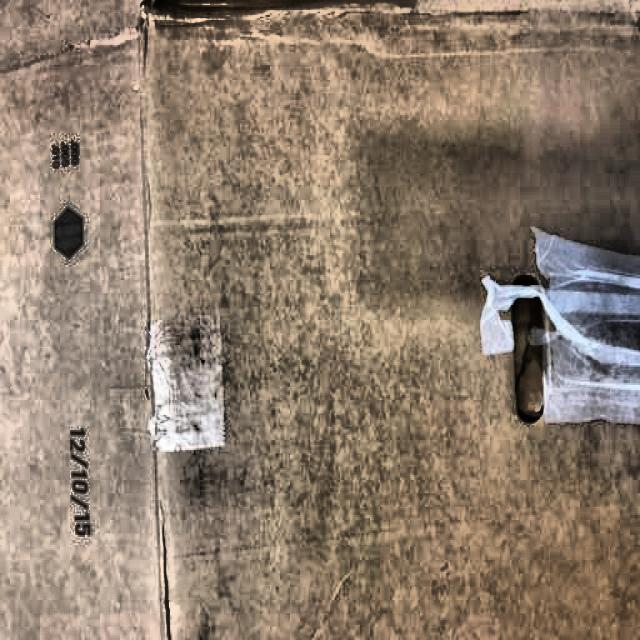cardboard: (6, 2, 640, 635)
